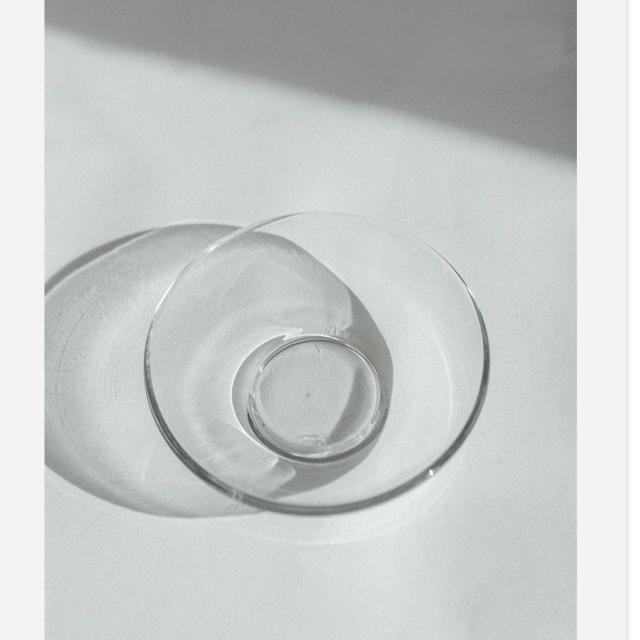recyclable: (128, 189, 511, 532)
